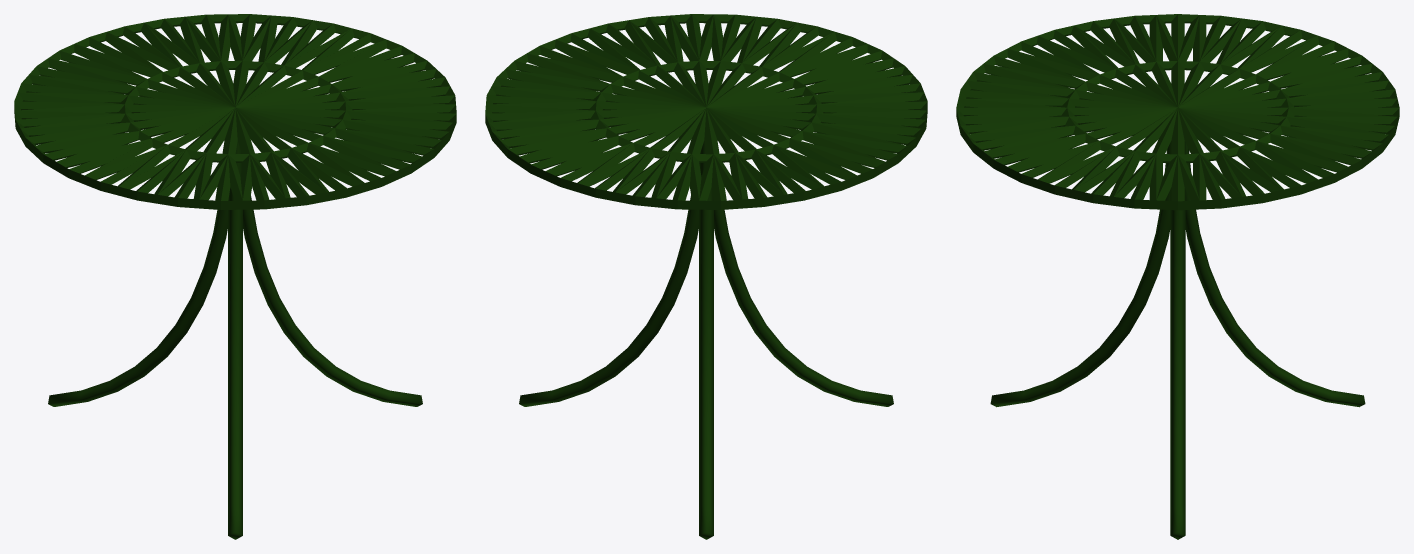
The model's file is Vtable.fbx.
3 views of the same model, side by side, from view 1: azimuth 30°, elevation 25°; view 2: azimuth 150°, elevation 25°; view 3: azimuth 270°, elevation 25° (orthographic).
Parts seen in each view (by area): view 1: BezierCurve; view 2: BezierCurve; view 3: BezierCurve.
Part boxes in pixels (bbox=[...]): BezierCurve: bbox=[14, 14, 456, 539]; BezierCurve: bbox=[485, 14, 927, 539]; BezierCurve: bbox=[956, 14, 1399, 539].
Bounding box in the file's own units: 136 × 116 × 136.
